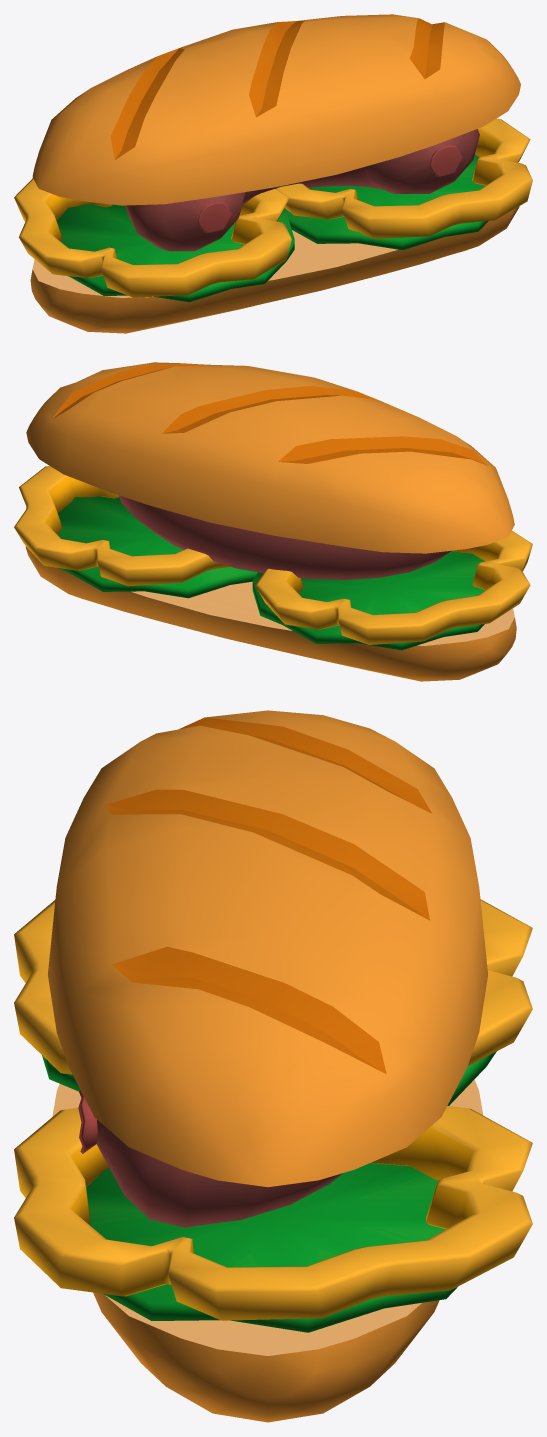
The model's file is Sandwich_03.fbx.
3 renders of one model, top to bottom at view 1: azimuth 30°, elevation 25°; view 2: azimuth 150°, elevation 25°; view 3: azimuth 270°, elevation 25°, orthographic. The views are drawn at different scales.
Visible parts, largest first — view 1: Sandwich_03; view 2: Sandwich_03; view 3: Sandwich_03.
Boxes of the visible parts, <box> form: Sandwich_03: <box>14,14,532,333</box>; Sandwich_03: <box>14,362,532,681</box>; Sandwich_03: <box>14,710,532,1422</box>.
Bounding box in the file's own units: 175 × 88.55 × 81.45.
